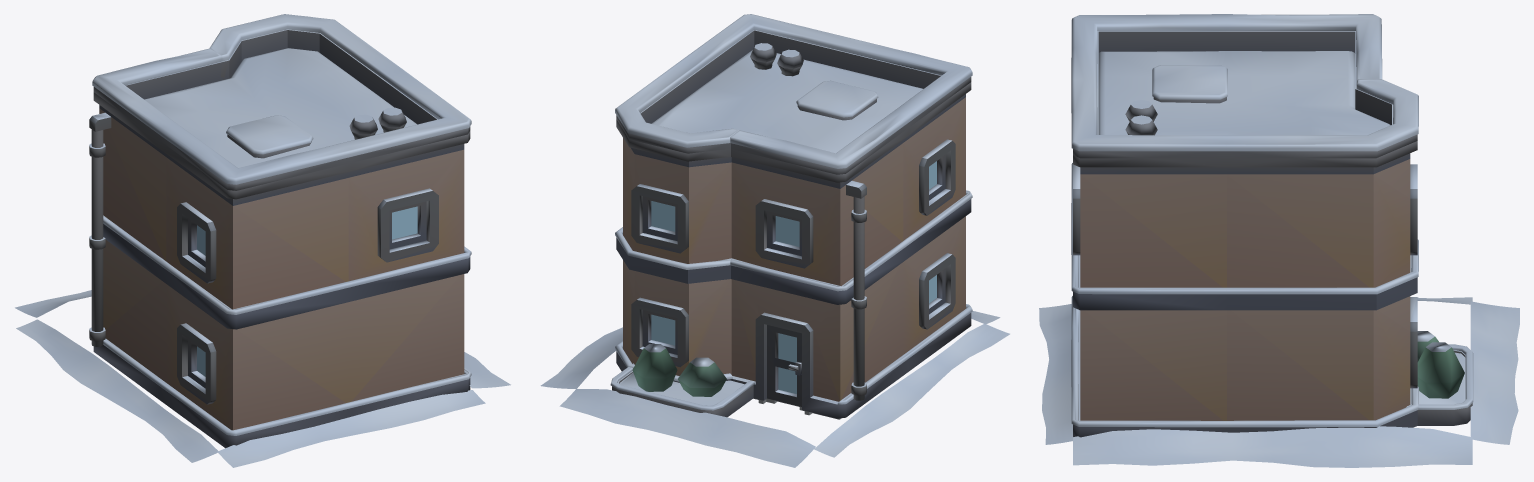
File: bldg_c.glb
3 views of the same model, side by side, from view 1: azimuth 30°, elevation 25°; view 2: azimuth 150°, elevation 25°; view 3: azimuth 270°, elevation 25° (orthographic). The views are drawn at different scales.
Visible parts, largest first — view 1: Base, Roof; view 2: Base, Roof; view 3: Base, Roof.
Part boxes in pixels (bbox=[...]): Base: bbox=[15, 36, 510, 467]; Roof: bbox=[92, 14, 471, 190]; Base: bbox=[540, 36, 1009, 467]; Roof: bbox=[615, 14, 972, 174]; Base: bbox=[1039, 39, 1519, 467]; Roof: bbox=[1071, 14, 1418, 158].
Bounding box in the file's own units: 10.72 × 8.74 × 12.46.
